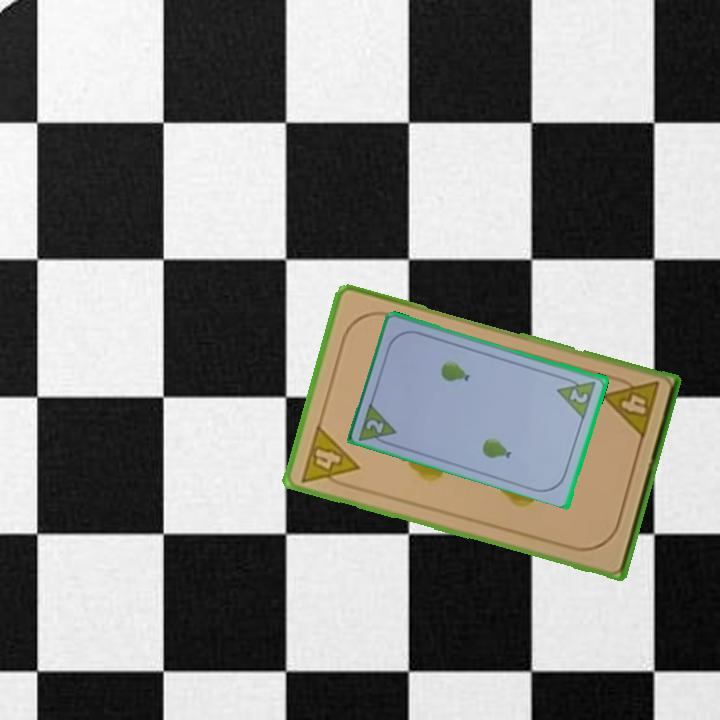2p: (566, 385, 591, 406), (362, 416, 387, 436)
4p: (297, 421, 362, 493), (599, 372, 662, 442)
